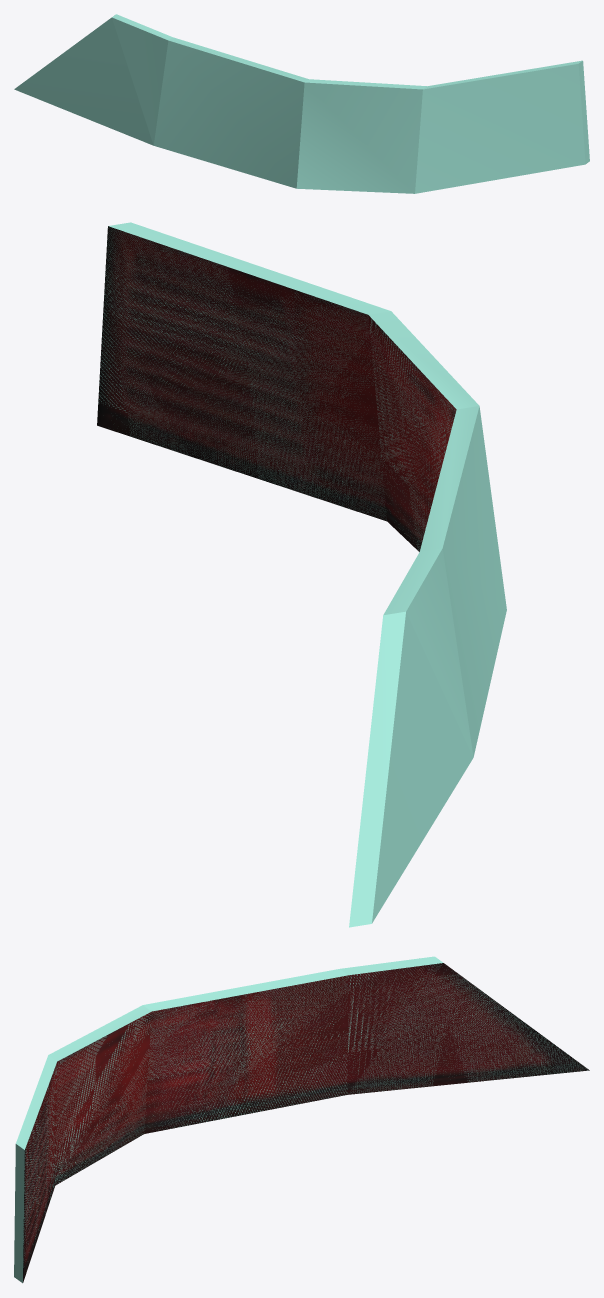
The model's file is SampleCar_01_Reverse_L.fbx.
The picture shows the model from 3 angles, top to bottom: view 1: azimuth 30°, elevation 25°; view 2: azimuth 150°, elevation 25°; view 3: azimuth 270°, elevation 25°; orthographic projection. The views are drawn at different scales.
Visible parts, largest first — view 1: UTM_glass_008; view 2: UTM_glass_008, glass_008_LOD0; view 3: glass_008_LOD0, UTM_glass_008.
Part boxes in pixels (left/top/right/bottom): UTM_glass_008: left=14, top=14, right=589, bottom=193; UTM_glass_008: left=98, top=222, right=506, bottom=927; glass_008_LOD0: left=97, top=226, right=456, bottom=551; glass_008_LOD0: left=23, top=963, right=589, bottom=1282; UTM_glass_008: left=14, top=956, right=587, bottom=1283.
Bounding box in the file's own units: 31.22 × 8.85 × 34.3.
